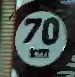Speed limit: (6, 0, 69, 74)
